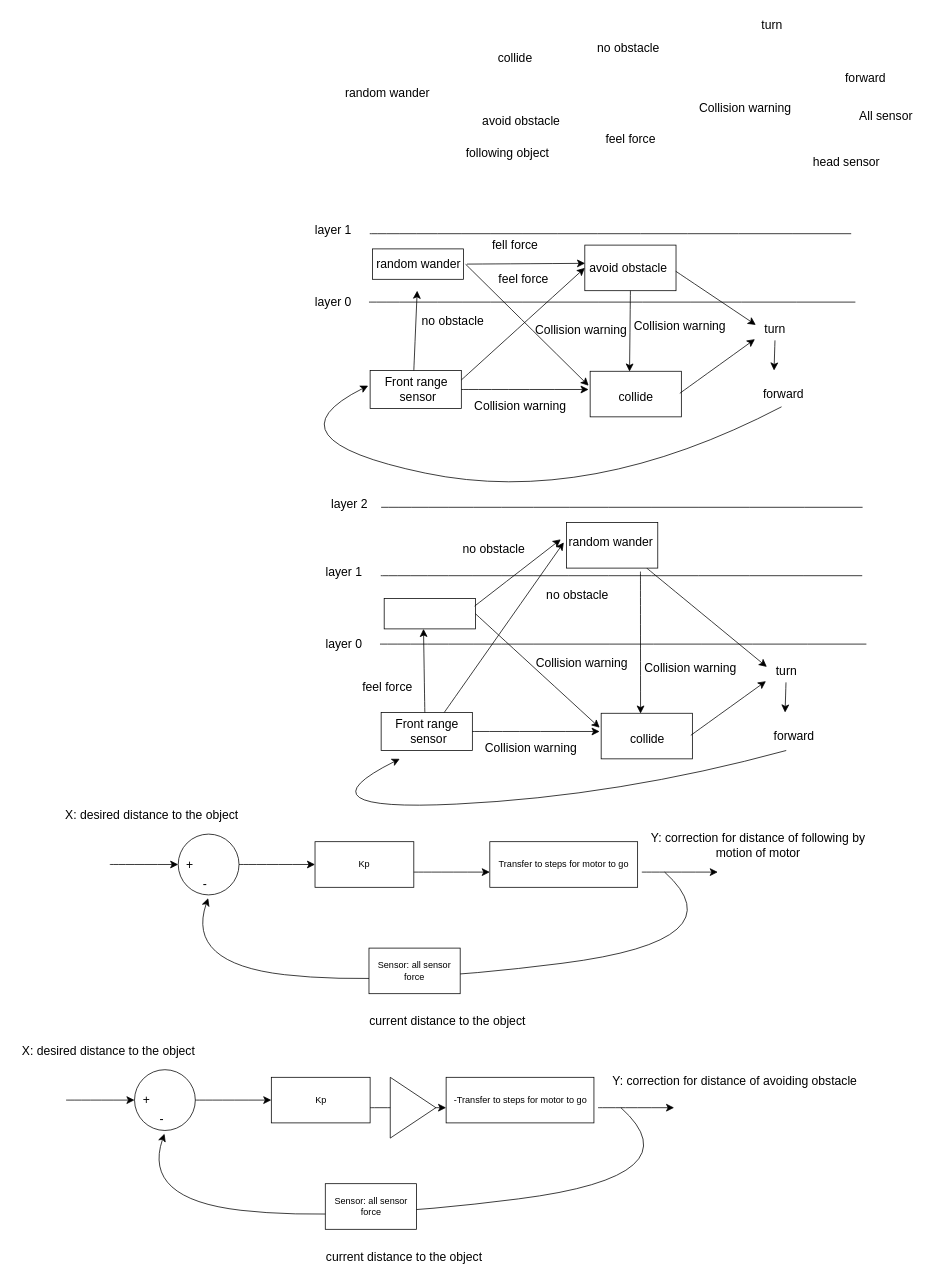
The diagram is 933 pixels wide and 1281 high, and some of its shapes have lost their labels. Each missing label, with the centre of its shape:
following: the point at 429,613
k = -1: the point at 413,1107
